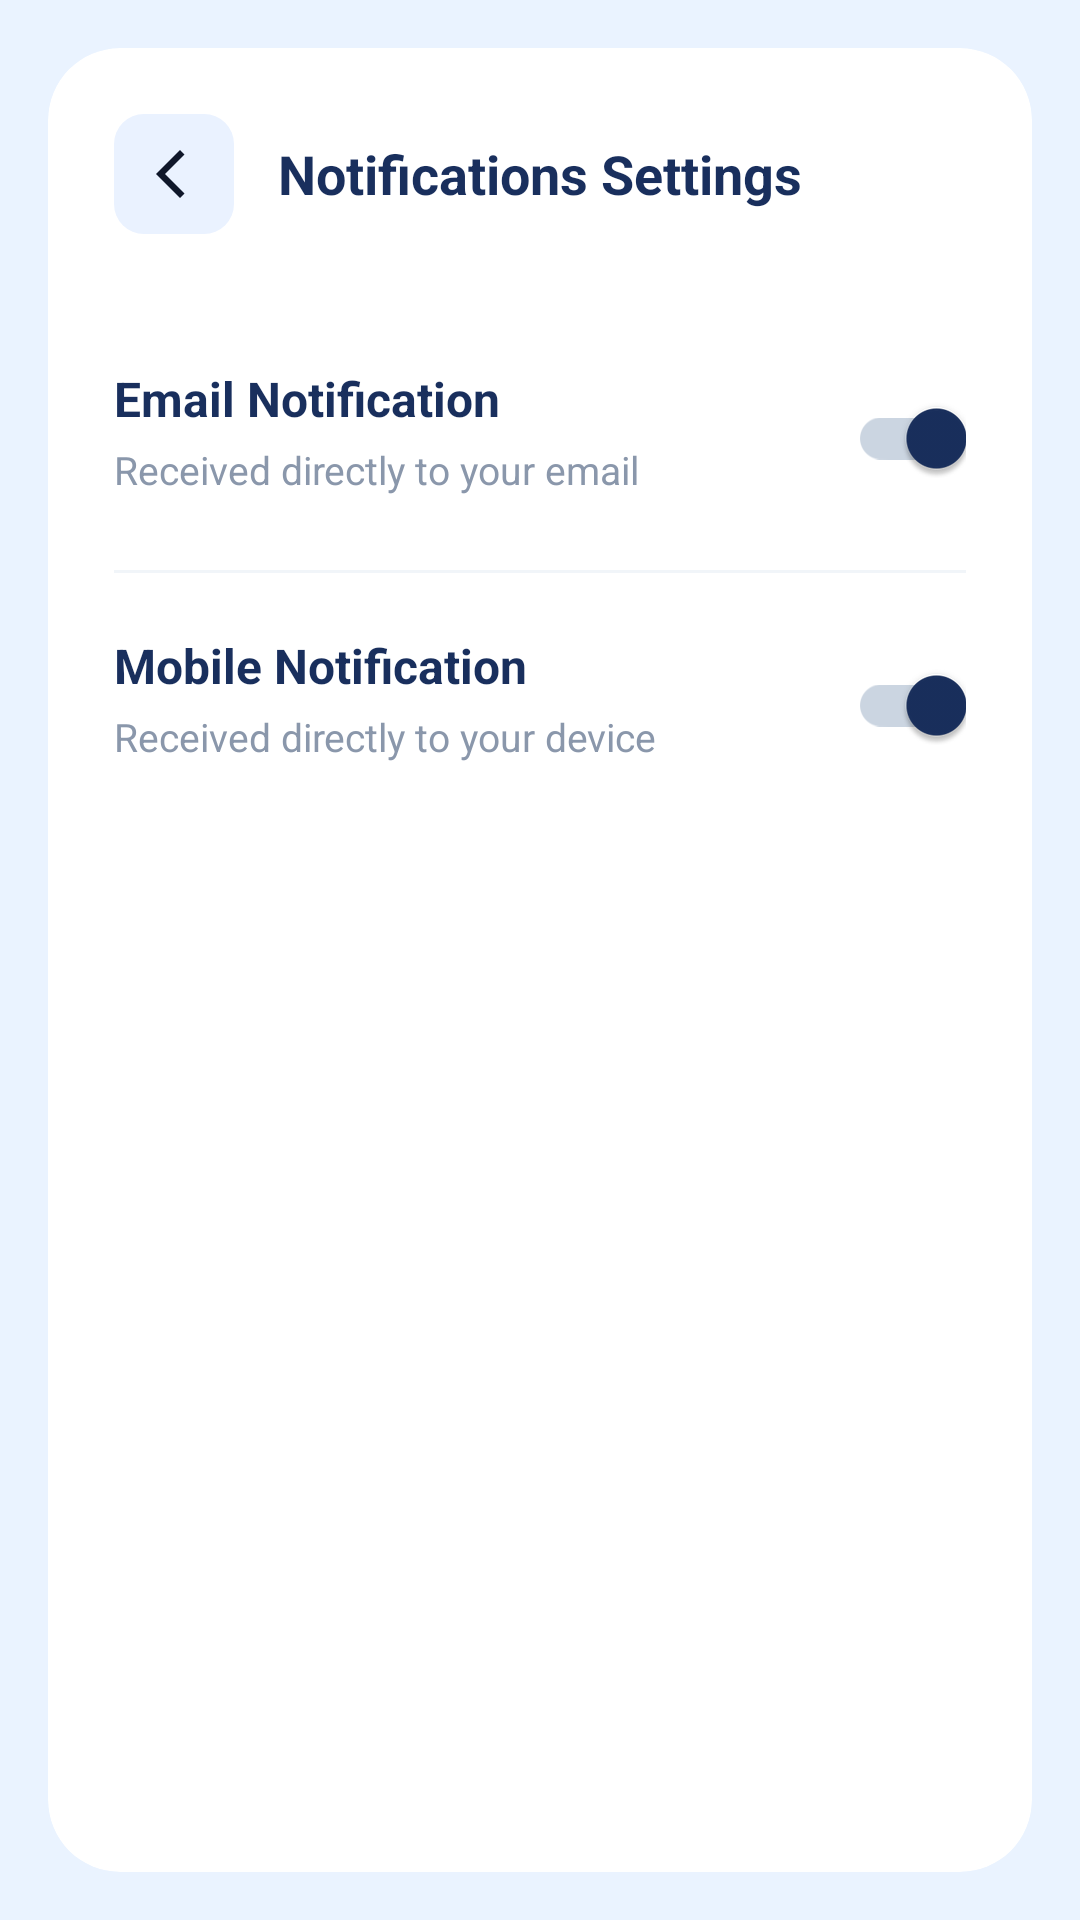

Icon bounding boxes for this 1080 × 1920 phone screenshot, format detection(x1, y1, x2, y2):
back: detection(114, 114, 234, 234)
